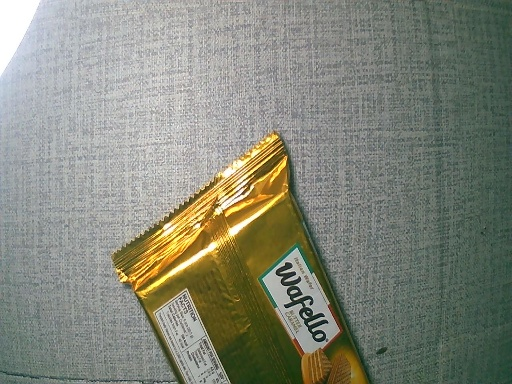plastic: (111, 133, 370, 384)
